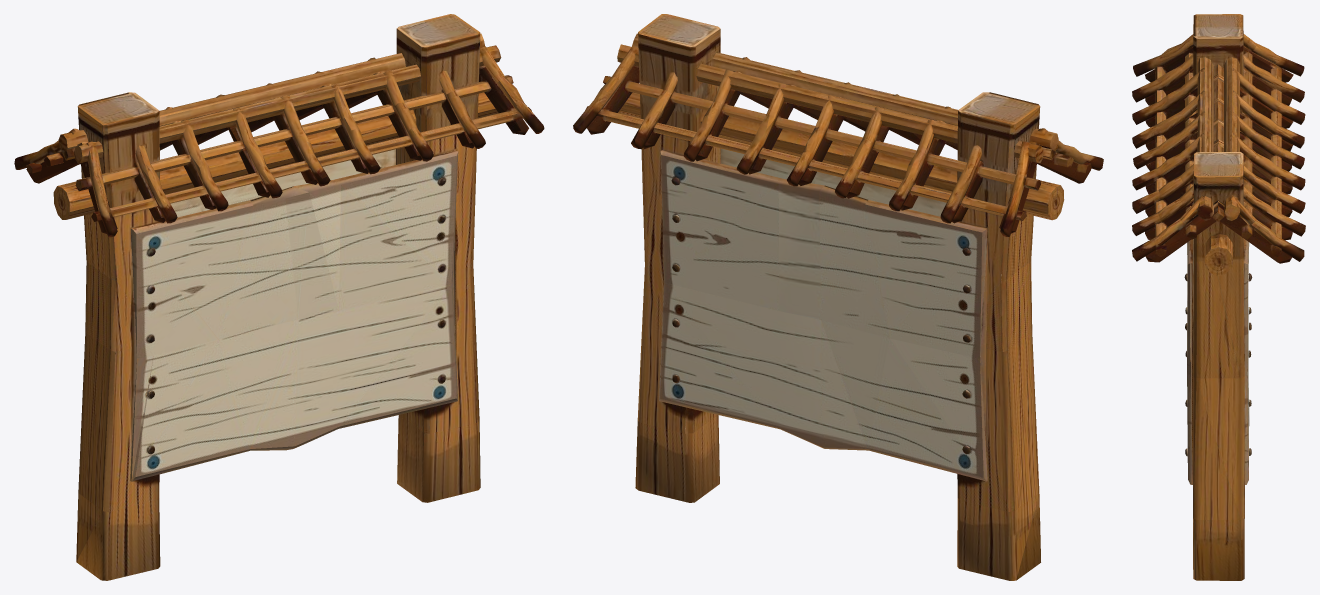
The model's file is notice-board.glb.
3 views of the same model, side by side, from view 1: azimuth 30°, elevation 25°; view 2: azimuth 150°, elevation 25°; view 3: azimuth 270°, elevation 25° (orthographic). The views are drawn at different scales.
Size of the model in its own units: 2.2 by 2.2 by 0.8599.
1 material, 1 textured.
